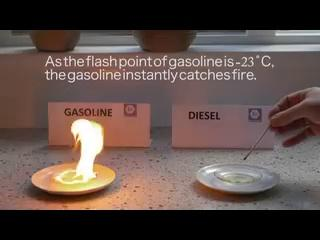Fire: (60, 130, 126, 183)
